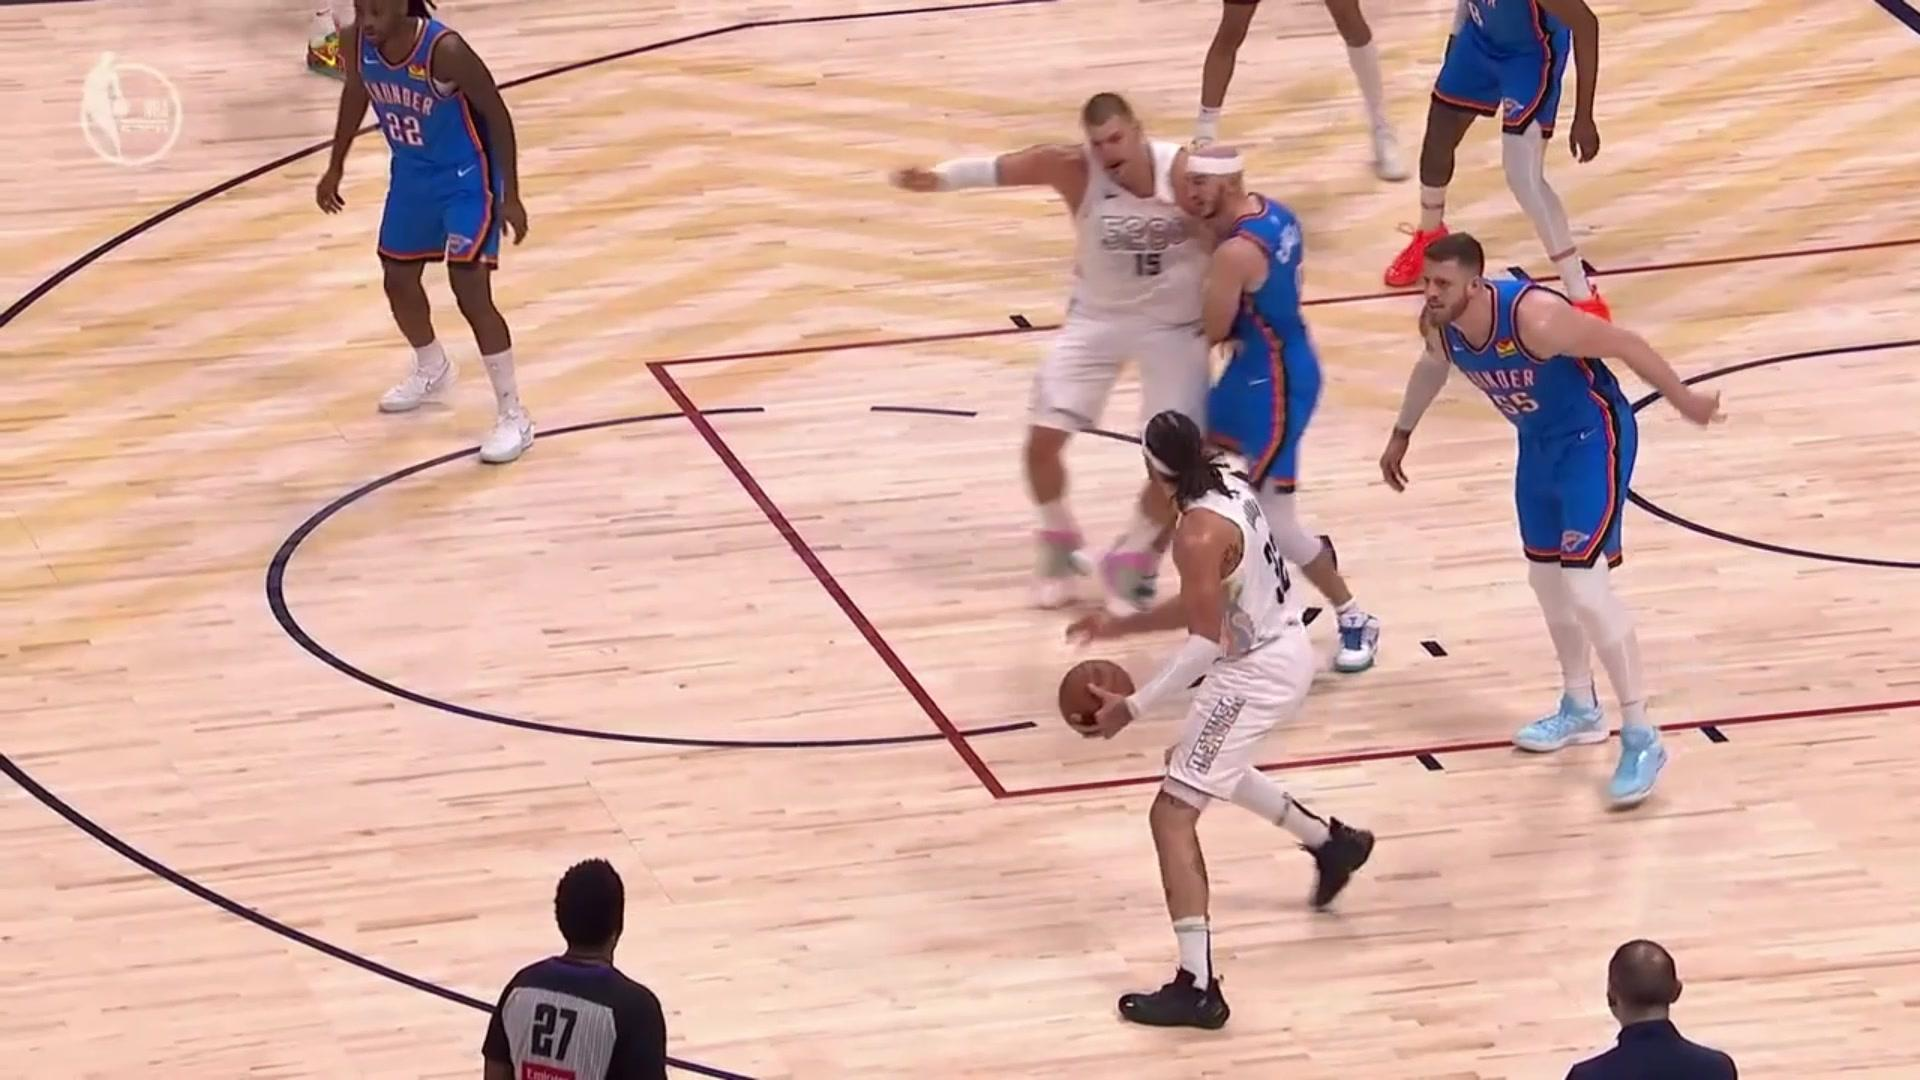foul: (876, 74, 1383, 650)
